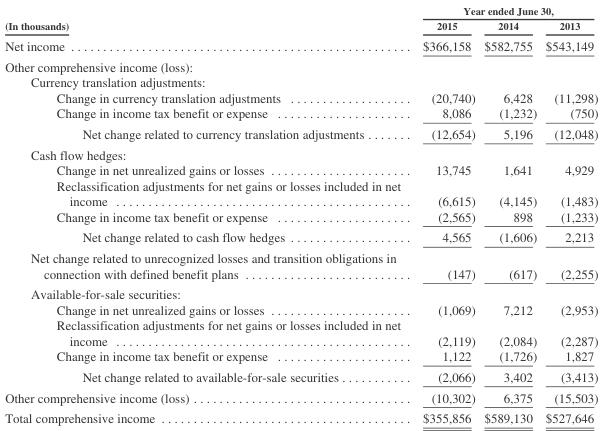table: (4, 4, 597, 425)
table column: (4, 4, 411, 425), (411, 4, 479, 425), (479, 4, 540, 425), (540, 4, 597, 425)
table column header: (4, 4, 597, 35)
table projected row header: (4, 143, 597, 162), (4, 56, 597, 74), (4, 283, 597, 301), (4, 74, 597, 89)
table row: (4, 247, 597, 283), (4, 177, 597, 208), (4, 317, 597, 348), (4, 35, 597, 56), (4, 226, 597, 247), (4, 386, 597, 407), (4, 123, 597, 143), (4, 366, 597, 386), (4, 143, 597, 162), (4, 56, 597, 74), (4, 105, 597, 123), (4, 208, 597, 226), (4, 283, 597, 301), (4, 348, 597, 366), (4, 407, 597, 425), (4, 18, 597, 35), (4, 89, 597, 105), (4, 301, 597, 317), (4, 74, 597, 89), (4, 162, 597, 177), (4, 4, 597, 18)
table spanning cell: (4, 4, 411, 35), (411, 4, 597, 18)
